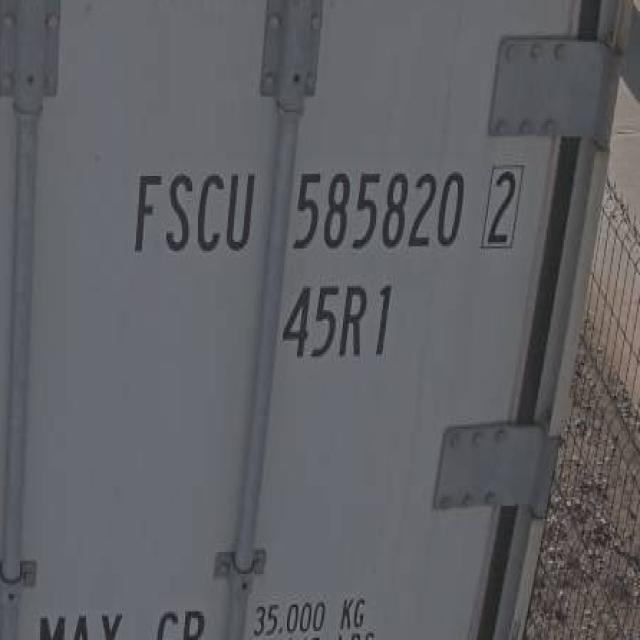dv: (479, 160, 527, 254)
owner: (123, 163, 261, 262)
serial: (288, 164, 471, 260)
size: (276, 272, 400, 370)
